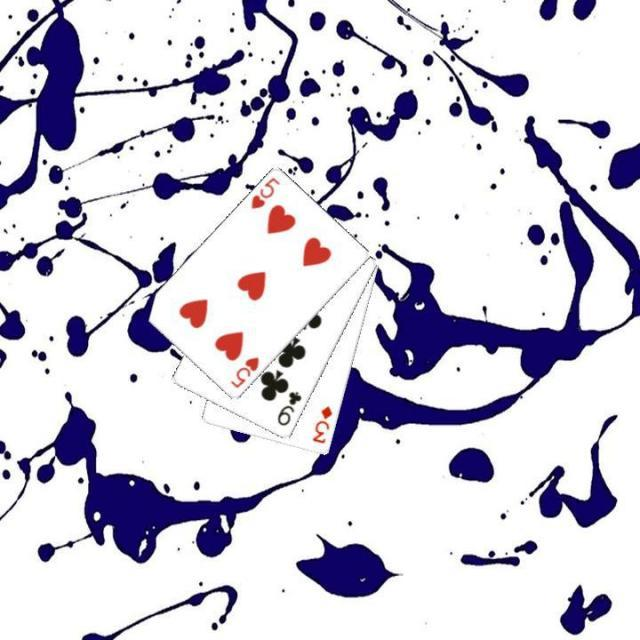3D: (308, 402, 334, 445)
5H: (247, 174, 282, 212), (227, 354, 260, 391)
9C: (273, 388, 303, 428)
